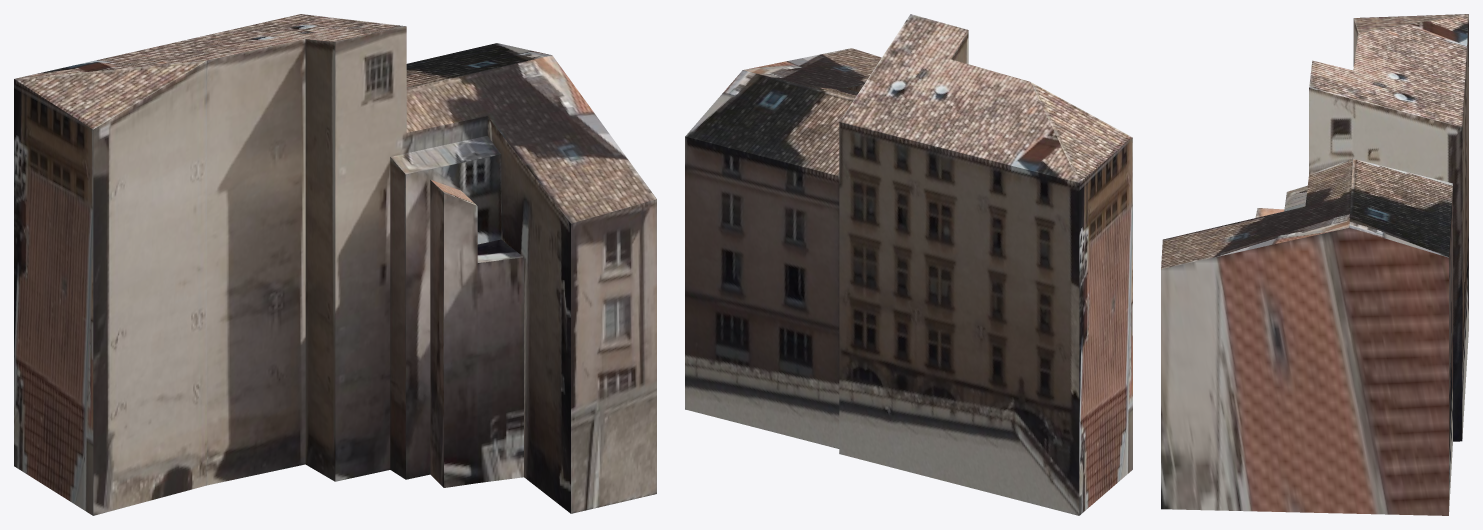
The picture shows the model from 3 angles, left to right: view 1: azimuth 30°, elevation 25°; view 2: azimuth 150°, elevation 25°; view 3: azimuth 270°, elevation 25°; orthographic projection. The views are drawn at different scales.
Visible parts, largest first — view 1: Z_UP; view 2: Z_UP; view 3: Z_UP.
Boxes of the visible parts, bbox=[...] form: Z_UP: bbox=[14, 14, 656, 515]; Z_UP: bbox=[685, 14, 1132, 515]; Z_UP: bbox=[1161, 14, 1468, 515].
Bounding box in the file's own units: 24.84 × 22.19 × 17.3.
Materials: 2 (1 with a texture image).
